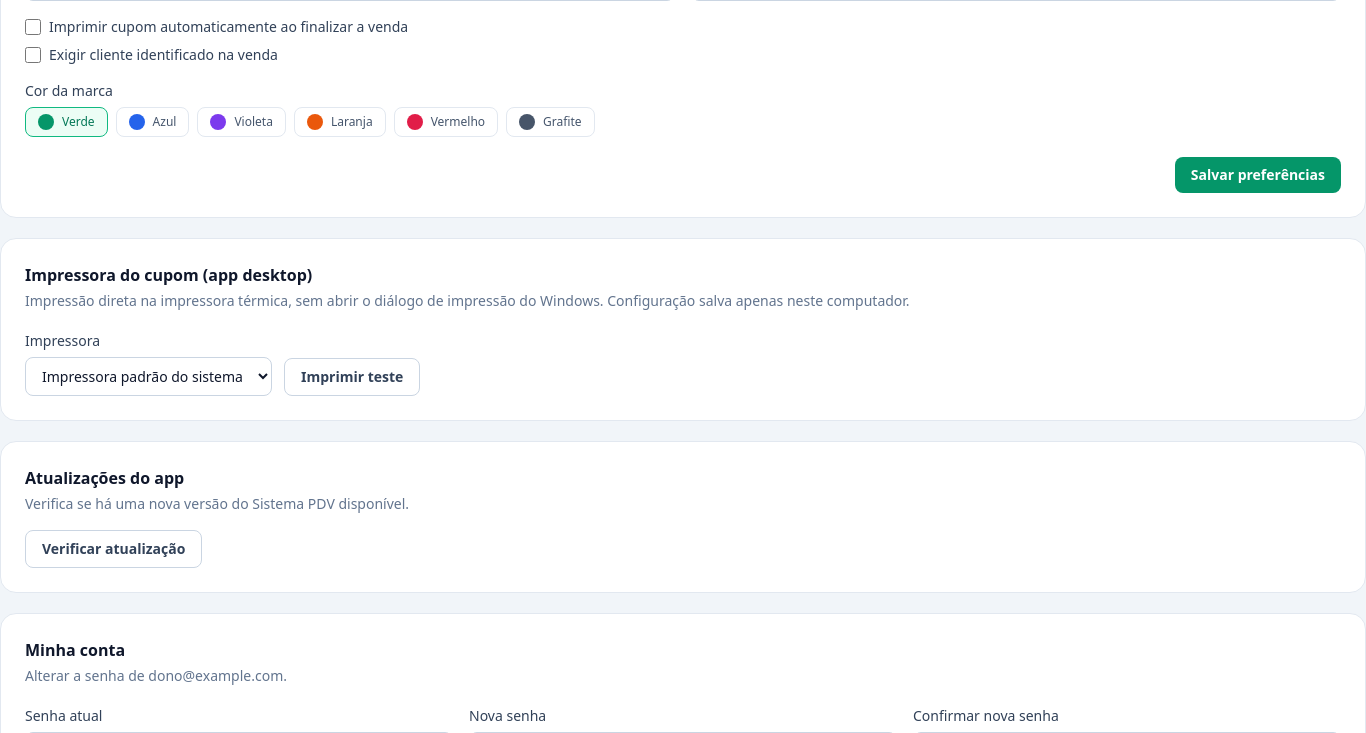
Settings › impressora do cupom (app desktop) › mostra o erro quando o teste de impressão falha
(page scrolled)
Click the button "Imprimir teste": {"x": 352, "y": 377} [284,358,420,396]
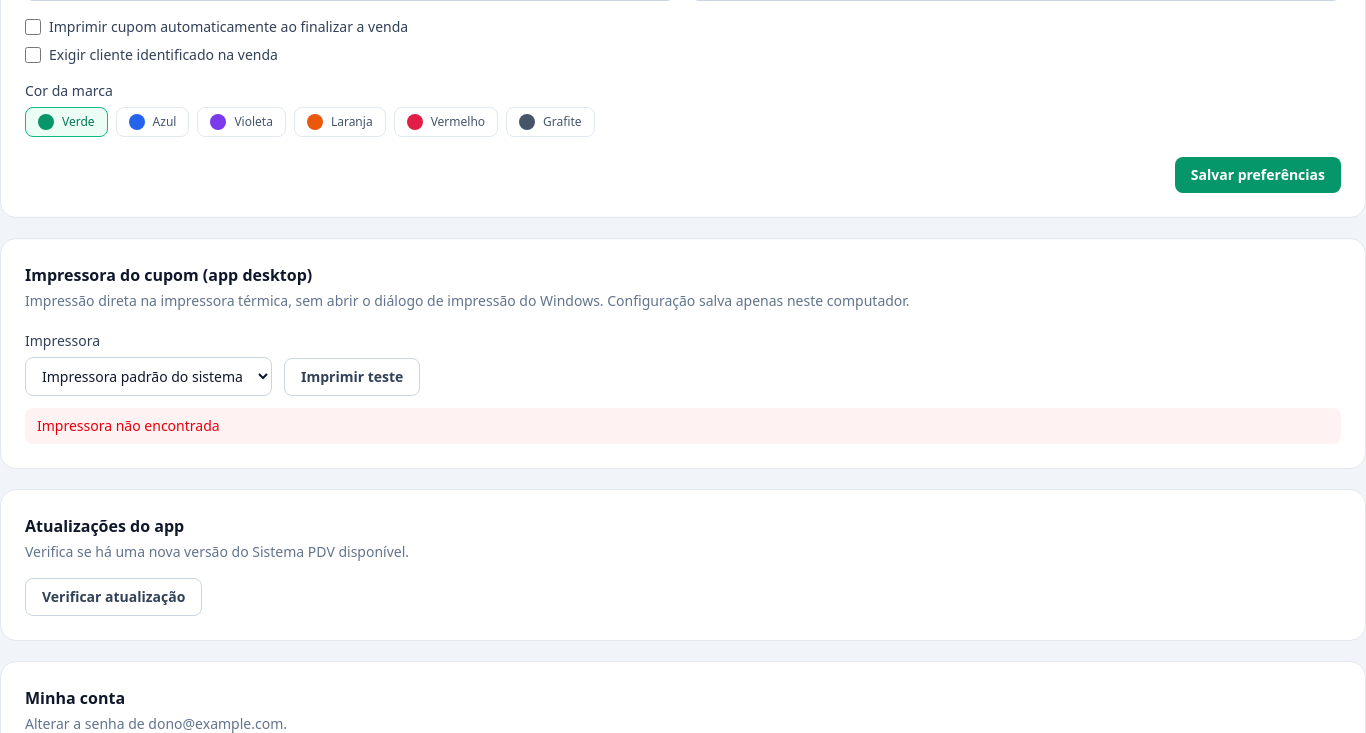
Check: the text "Impressora não encontrada" is shown, box [25,408,1341,444]
